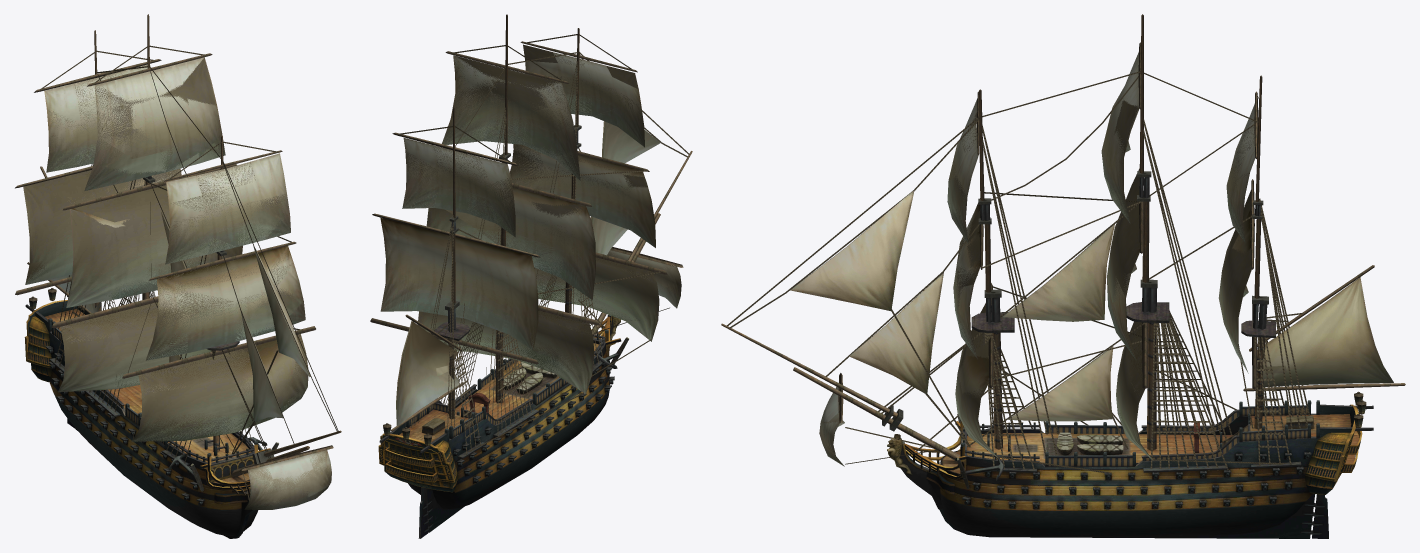
The model's file is U_T_Ship_04.fbx.
The picture shows the model from 3 angles, left to right: view 1: azimuth 30°, elevation 25°; view 2: azimuth 150°, elevation 25°; view 3: azimuth 270°, elevation 25°; orthographic projection. The views are drawn at different scales.
Visible parts, largest first — view 1: U_Ship_04_p1, U_Ship_04, U_Ship_04_p2, U_Ship_04_p3; view 2: U_Ship_04_p1, U_Ship_04, U_Ship_04_p2, U_Ship_04_p3, U_Ship_04_p4, U_Ship_04_p5; view 3: U_Ship_04, U_Ship_04_p1, U_Ship_04_p2, U_Ship_04_p3, U_Ship_04_p4.
Boxes of the visible parts, x1,y1,x2,y2 form: U_Ship_04_p1: (23, 57, 331, 509); U_Ship_04: (15, 14, 341, 500); U_Ship_04_p2: (49, 356, 250, 509); U_Ship_04_p3: (53, 393, 258, 536); U_Ship_04_p1: (380, 44, 681, 425); U_Ship_04: (370, 14, 692, 492); U_Ship_04_p2: (453, 350, 614, 492); U_Ship_04_p3: (408, 384, 609, 508); U_Ship_04_p4: (426, 315, 620, 532); U_Ship_04_p5: (418, 487, 429, 538); U_Ship_04: (721, 14, 1405, 494); U_Ship_04_p1: (790, 52, 1393, 466); U_Ship_04_p2: (926, 450, 1312, 510); U_Ship_04_p3: (940, 492, 1305, 537); U_Ship_04_p4: (887, 434, 1316, 538).
Bounding box in the file's own units: 5.24 × 12.02 × 14.29.
1 material, 1 textured.
